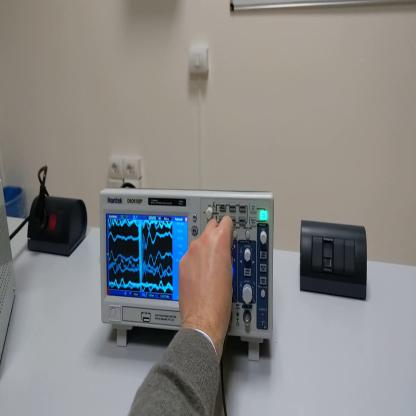hand: (177, 212, 235, 344)
oscilloscope: (95, 192, 280, 365)
power supply: (2, 164, 19, 382)
socket: (25, 198, 89, 258)
